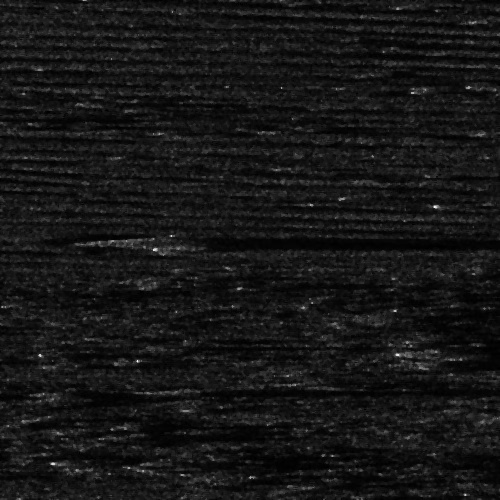object: (381, 340, 454, 361), (79, 235, 204, 246), (121, 386, 194, 395), (0, 114, 5, 117)
shadow: (142, 235, 500, 246), (158, 386, 425, 395), (418, 340, 500, 361), (0, 114, 189, 117)
